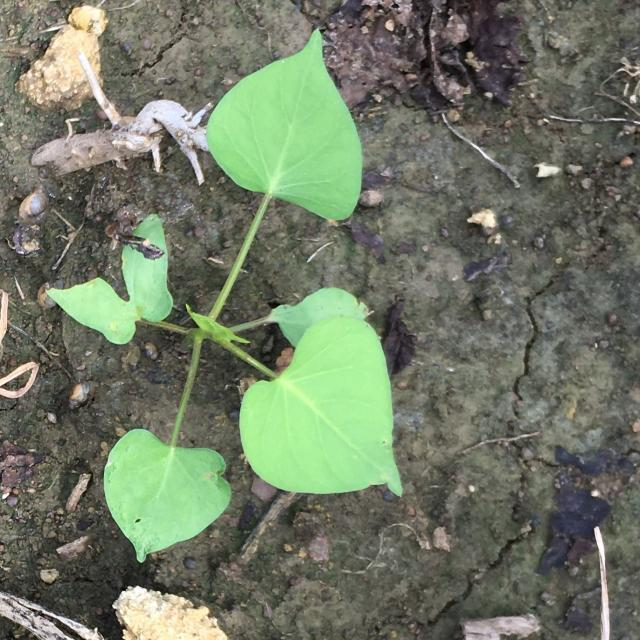MorningGlory: (44, 29, 402, 562)
